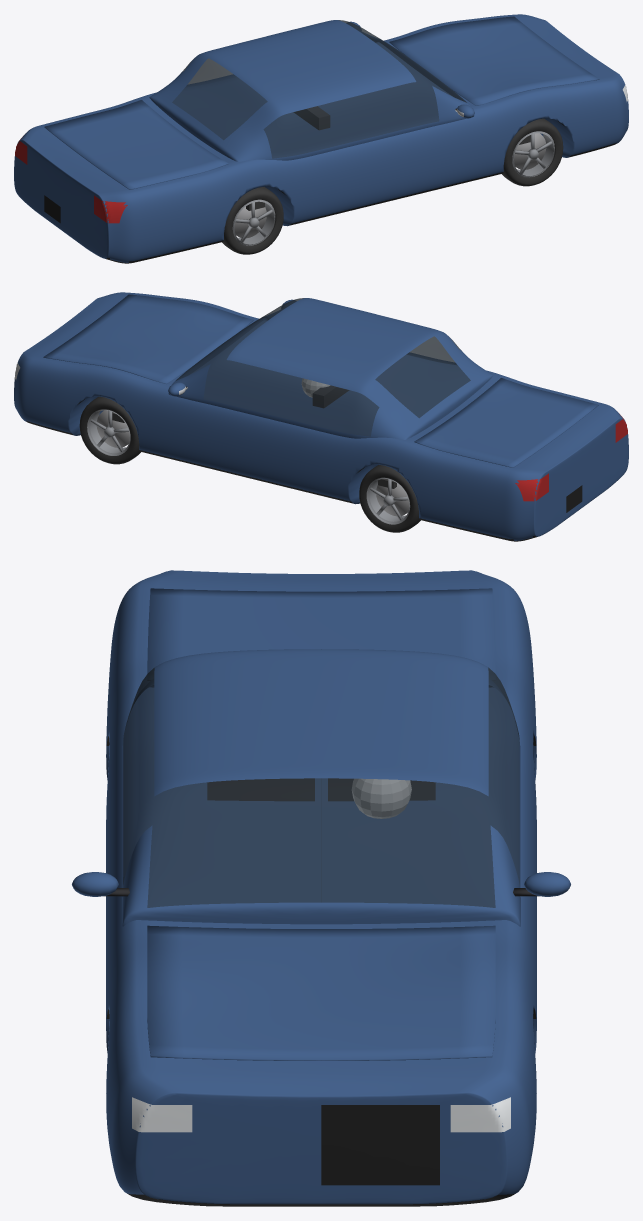
The model's file is derby_brannock_sovereign.glb.
The picture shows the model from 3 angles, top to bottom: view 1: azimuth 30°, elevation 25°; view 2: azimuth 150°, elevation 25°; view 3: azimuth 270°, elevation 25°; orthographic projection. The views are drawn at different scales.
Parts seen in each view (by area): view 1: body, cabin, bonnet, bumper_rear, boot, bumper_front, wheel_fr_spin, wheel_rr_spin, interior; view 2: body, cabin, bonnet, bumper_rear, boot, bumper_front, wheel_fl_spin, wheel_rl_spin, interior; view 3: cabin, body, bumper_front, bonnet, boot, bumper_rear, interior, mirror_l, mirror_r.
Boxes of the visible parts, box(x1,y1,x2,y2) form: body: box(39, 15, 607, 262); cabin: box(149, 20, 474, 161); bonnet: box(389, 16, 599, 105); bumper_rear: box(14, 126, 137, 263); boot: box(44, 100, 228, 189); bumper_front: box(508, 14, 628, 147); wheel_fr_spin: box(502, 118, 563, 186); wheel_rr_spin: box(222, 187, 283, 254); interior: box(293, 106, 330, 130); body: box(35, 293, 603, 540); cabin: box(168, 298, 493, 439); bonnet: box(43, 294, 253, 383); bumper_rear: box(505, 404, 628, 541); boot: box(414, 378, 598, 467); bumper_front: box(14, 292, 134, 425); wheel_fl_spin: box(79, 396, 140, 464); wheel_rl_spin: box(359, 465, 420, 532); interior: box(301, 378, 349, 408); cabin: box(122, 649, 520, 926); body: box(106, 587, 536, 1153); bumper_front: box(109, 1053, 533, 1206); bonnet: box(147, 925, 495, 1060); boot: box(147, 588, 495, 680); bumper_rear: box(117, 570, 525, 611); interior: box(207, 778, 435, 818); mirror_l: box(513, 872, 570, 896); mirror_r: box(72, 872, 129, 896).
Size of the model in its own units: 5.61 by 1.4 by 2.32.
